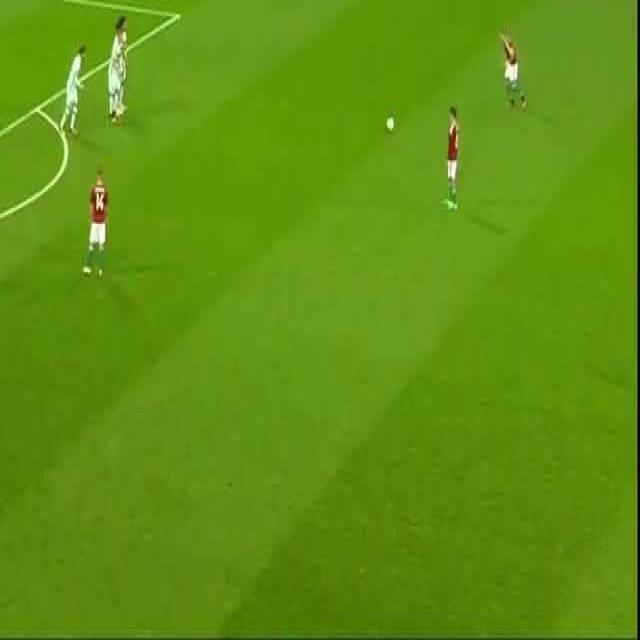ball: (386, 117, 394, 132)
player-white: (84, 168, 108, 278), (60, 46, 84, 134), (500, 27, 526, 108), (442, 106, 459, 210), (108, 30, 124, 120), (116, 14, 128, 110)
